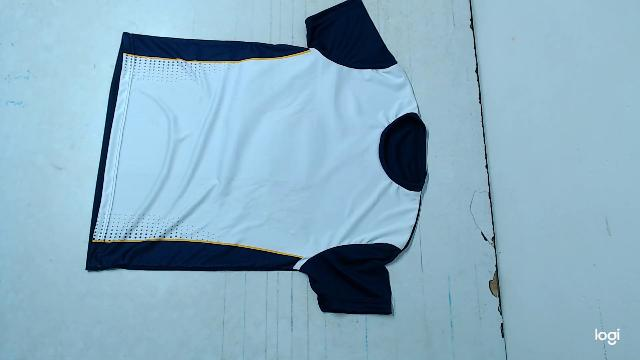new-garment: (86, 0, 427, 314)
